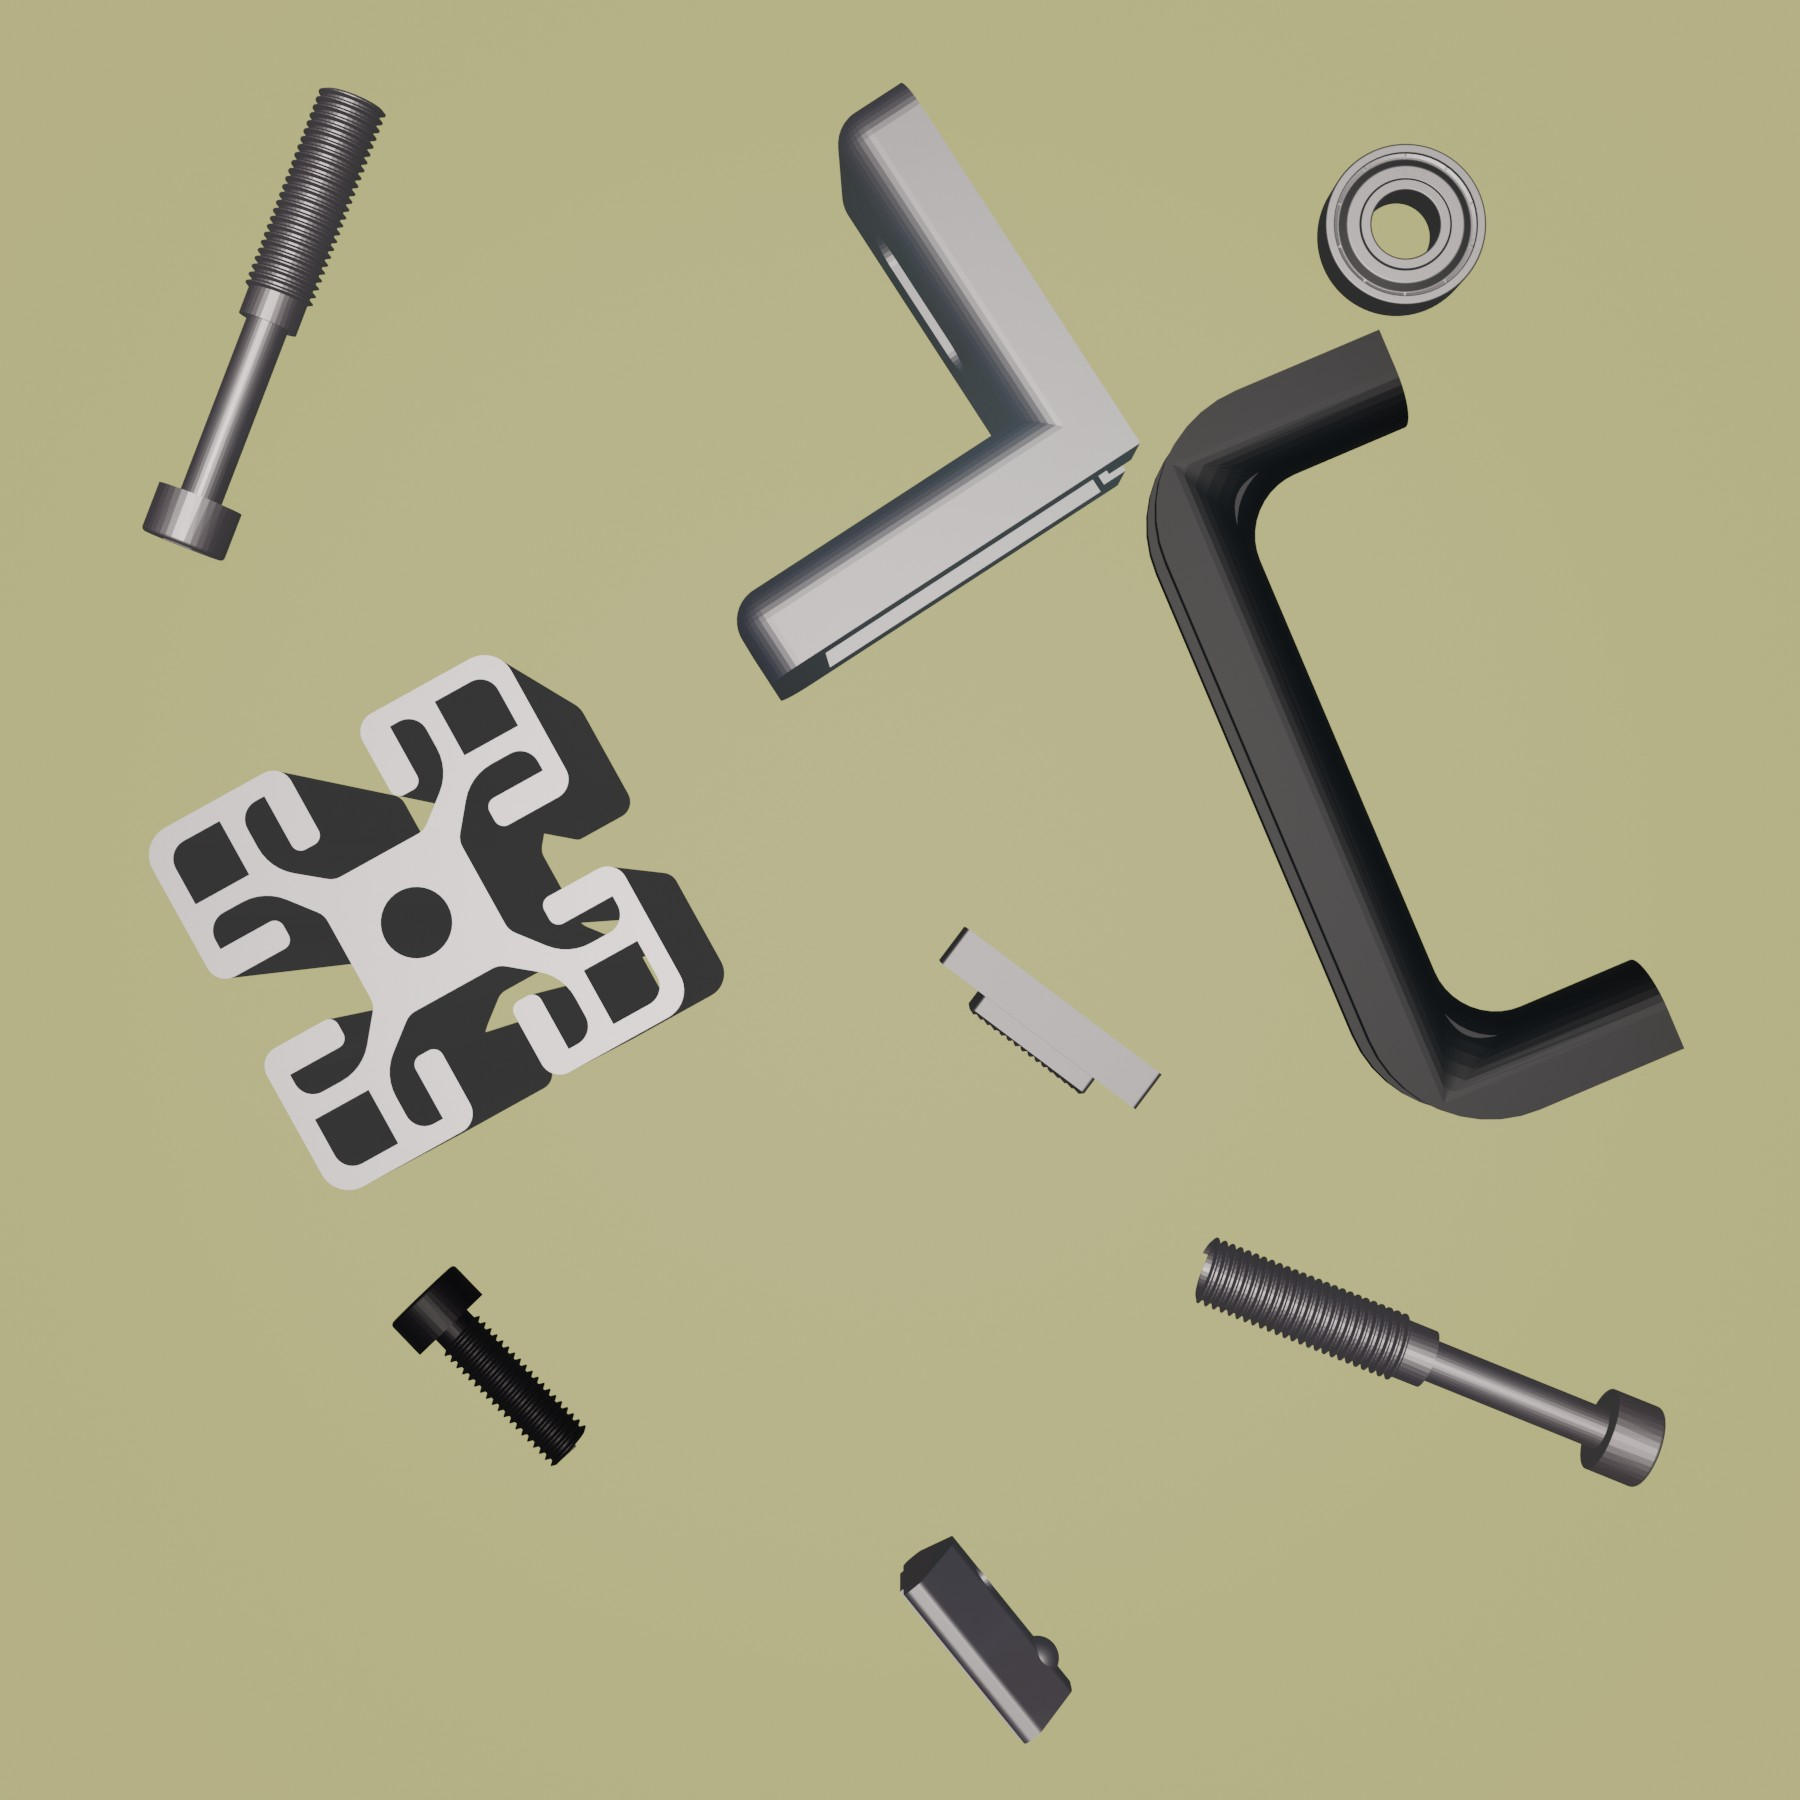Aluminium Extension: (147, 653, 727, 1195)
Ball Bearing: (1314, 138, 1490, 318)
Multiwinkel: (735, 77, 1141, 702)
Pull Handle: (1142, 326, 1690, 1123)
Shoulder Socket Head Cap Screw: (1188, 1235, 1670, 1488), (140, 81, 387, 564)
Socket Head Cap Screw: (389, 1263, 588, 1469)
T Nut Square: (931, 920, 1167, 1119)
T Spring Nut: (897, 1535, 1075, 1751)
